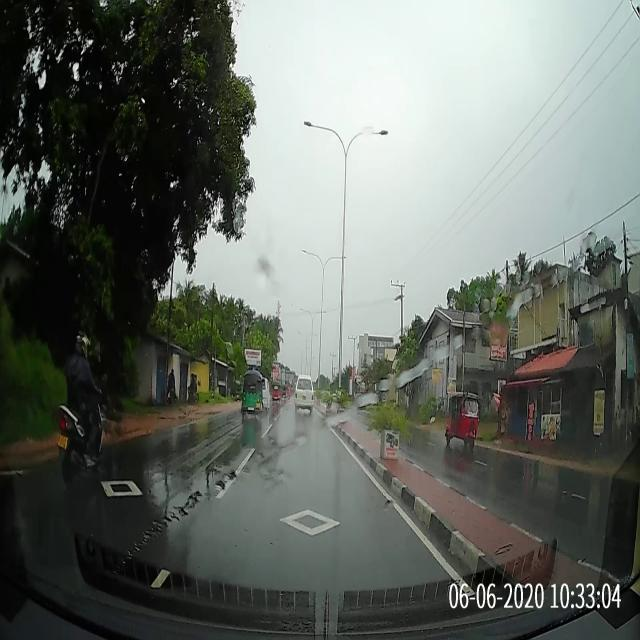diamond: (190, 497, 443, 555)
